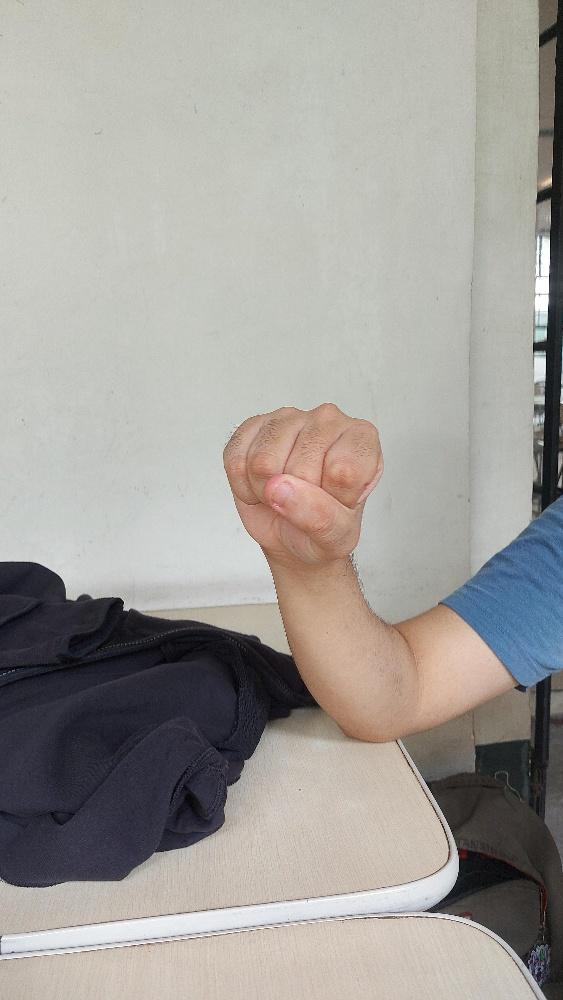s: (222, 401, 384, 564)
